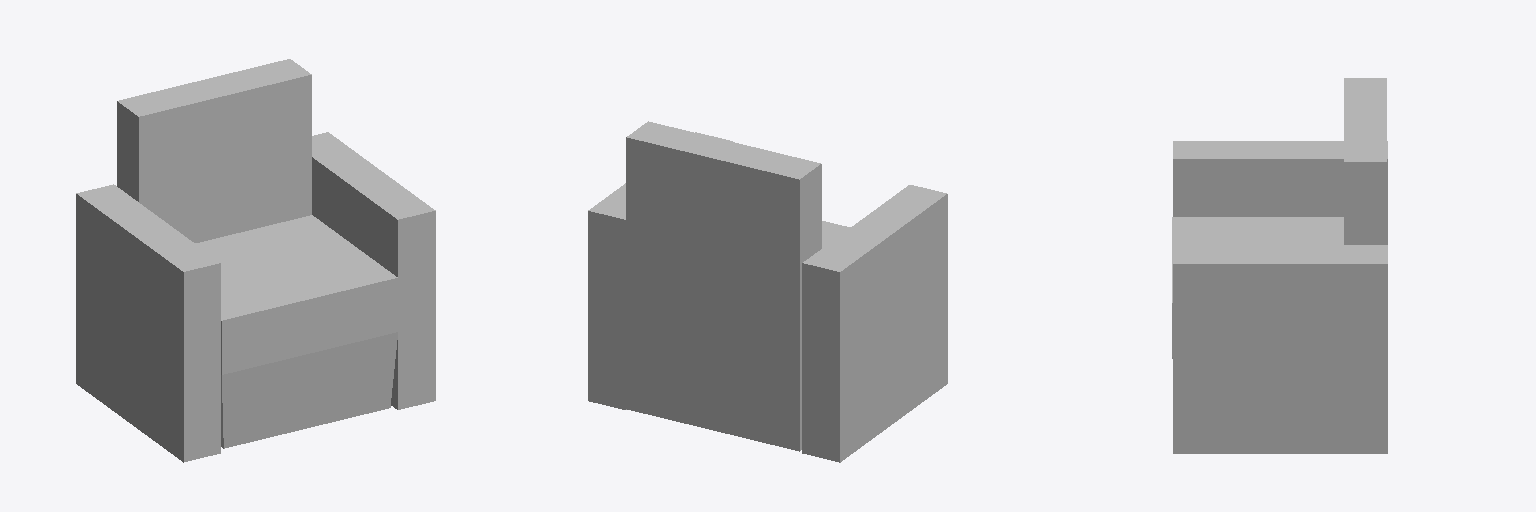
File: sofa.obj
3 renders of one model, left to right at view 1: azimuth 30°, elevation 25°; view 2: azimuth 150°, elevation 25°; view 3: azimuth 270°, elevation 25°, orthographic.
Parts seen in each view (by area): view 1: Sofa; view 2: Sofa; view 3: Sofa.
Part boxes in pixels (x1,y1,x2,y2): Sofa: (76, 59, 435, 462); Sofa: (588, 121, 947, 462); Sofa: (1172, 78, 1387, 453).
Size of the model in its own units: 10.3 by 10.66 by 7.61.